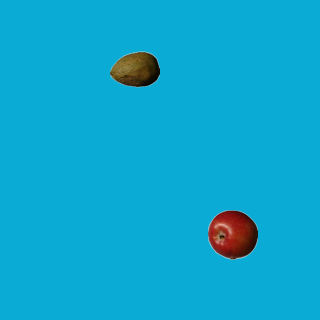Apple Braeburn: (207, 209, 257, 259)
Papaya: (109, 44, 159, 94)
